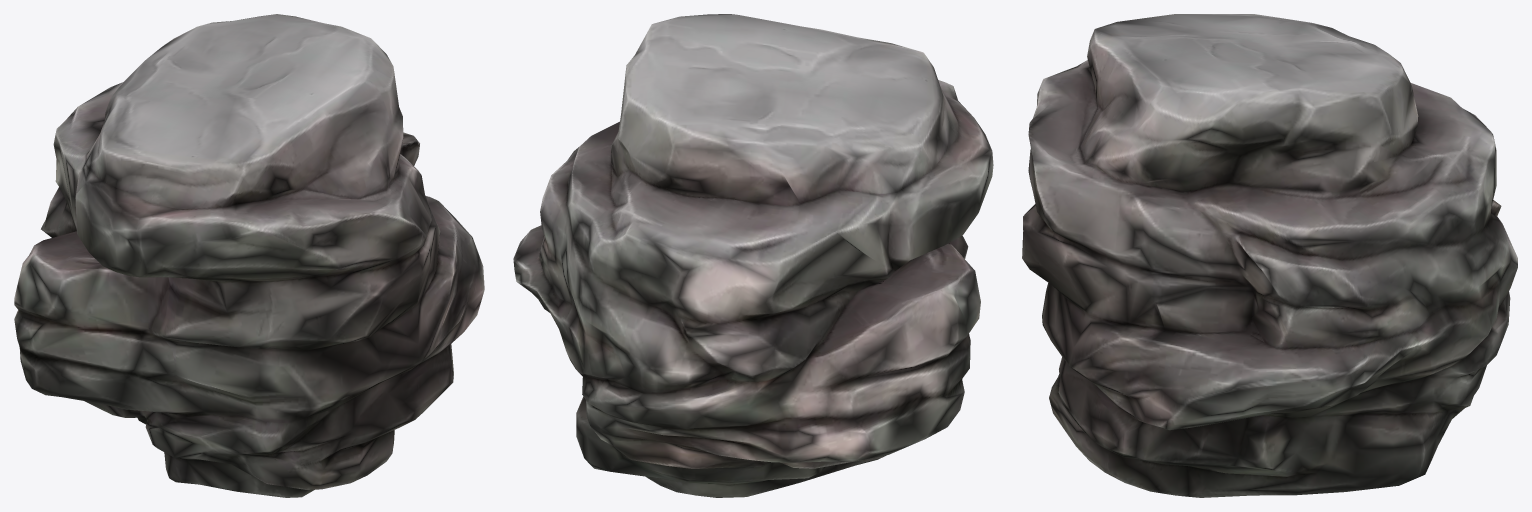
Rendered from stone_mid_1.glb.
3 views of the same model, side by side, from view 1: azimuth 30°, elevation 25°; view 2: azimuth 150°, elevation 25°; view 3: azimuth 270°, elevation 25° (orthographic). The views are drawn at different scales.
Visible parts, largest first — view 1: Mid_1; view 2: Mid_1; view 3: Mid_1.
Boxes of the visible parts, left/top/right/bottom form: Mid_1: left=14, top=14, right=484, bottom=497; Mid_1: left=513, top=14, right=993, bottom=497; Mid_1: left=1022, top=14, right=1517, bottom=497.
Bounding box in the file's own units: 4.27 × 3.78 × 3.99.
Materials: 1 (1 with a texture image).
